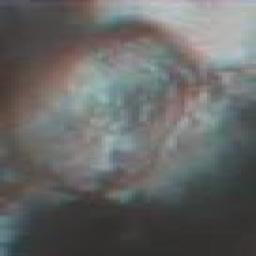crystals: (0, 7, 230, 205)
